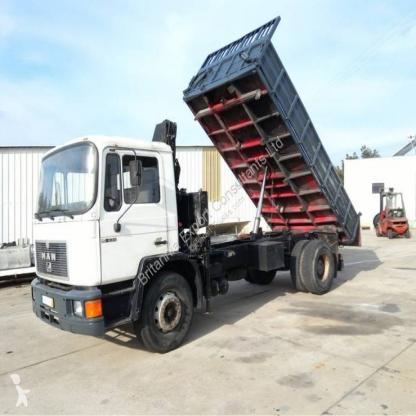dump_truck: (25, 16, 371, 360)
